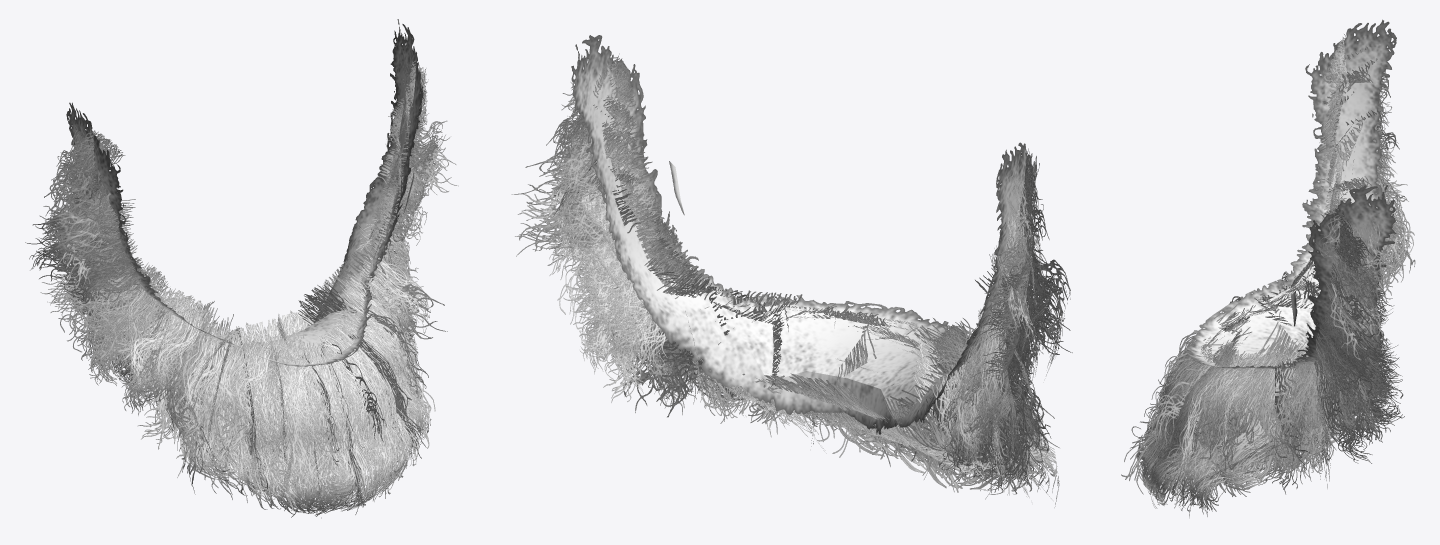
Rendered from beard_101.glb.
3 renders of one model, left to right at view 1: azimuth 30°, elevation 25°; view 2: azimuth 150°, elevation 25°; view 3: azimuth 270°, elevation 25°, orthographic. The views are drawn at different scales.
Parts seen in each view (by area): view 1: beard_cards, beard_cap; view 2: beard_cards, beard_cap; view 3: beard_cards, beard_cap.
Part boxes in pixels (x1=…): beard_cards: x1=25, y1=56, x2=458, y2=518; beard_cap: x1=66, y1=19, x2=423, y2=366; beard_cards: x1=511, y1=53, x2=1072, y2=507; beard_cap: x1=571, y1=35, x2=1039, y2=434; beard_cards: x1=1121, y1=34, x2=1415, y2=518; beard_cap: x1=1185, y1=19, x2=1396, y2=371.
Bounding box in the file's own units: 0.1975 × 0.1668 × 0.115.
Materials: 2 (2 with a texture image).
